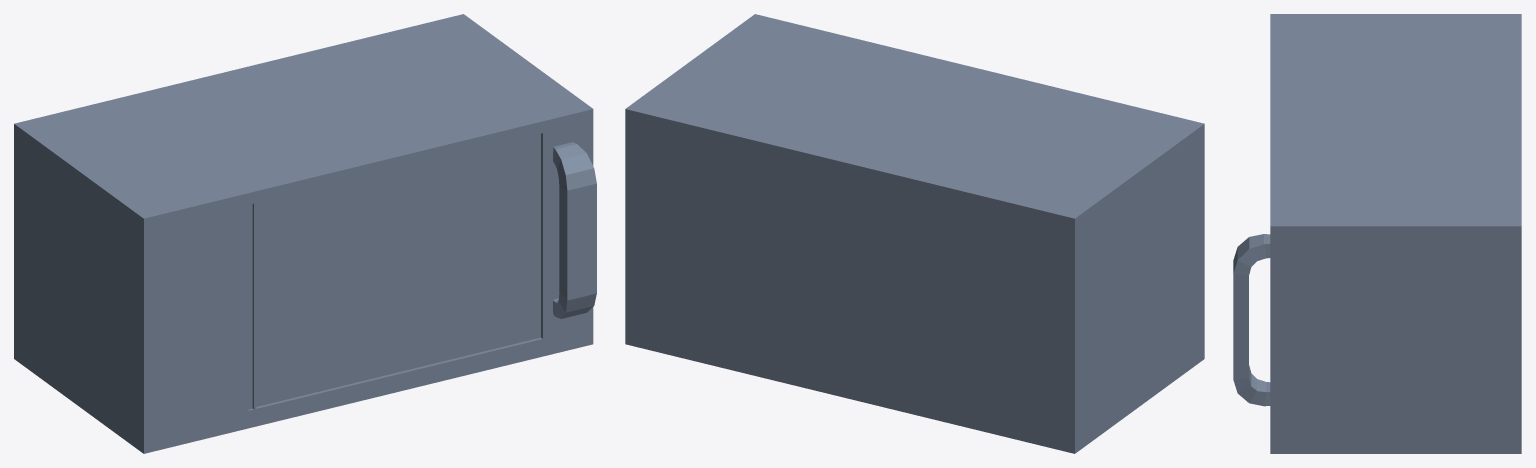
The model's file is Microwave.fbx.
3 renders of one model, left to right at view 1: azimuth 30°, elevation 25°; view 2: azimuth 150°, elevation 25°; view 3: azimuth 270°, elevation 25°, orthographic. The views are drawn at different scales.
Parts seen in each view (by area): view 1: Microwave_Body, Microwave_Handle; view 2: Microwave_Body; view 3: Microwave_Body, Microwave_Handle.
Part boxes in pixels (box(x1,y1,x2,y2)): Microwave_Body: box(14, 14, 593, 453); Microwave_Handle: box(553, 142, 596, 318); Microwave_Body: box(625, 14, 1204, 453); Microwave_Body: box(1270, 14, 1521, 453); Microwave_Handle: box(1233, 234, 1270, 406).
Size of the model in its own units: 400 by 229 by 200.
